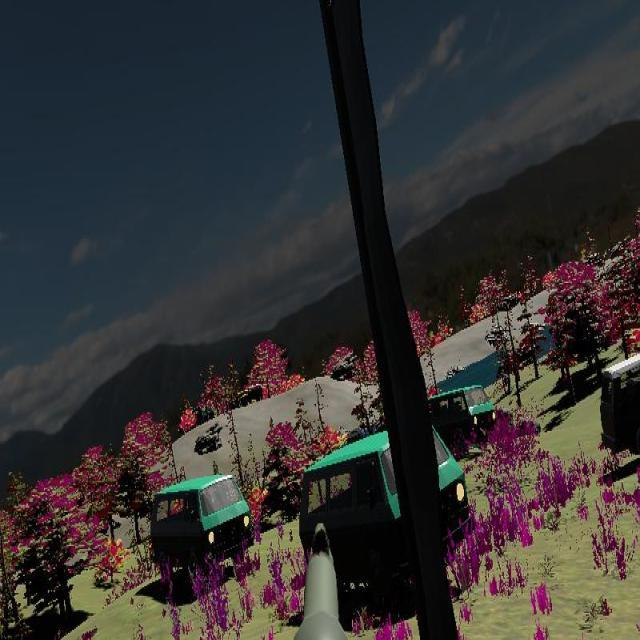car: (299, 428, 468, 616), (150, 474, 252, 590), (599, 345, 640, 461)
